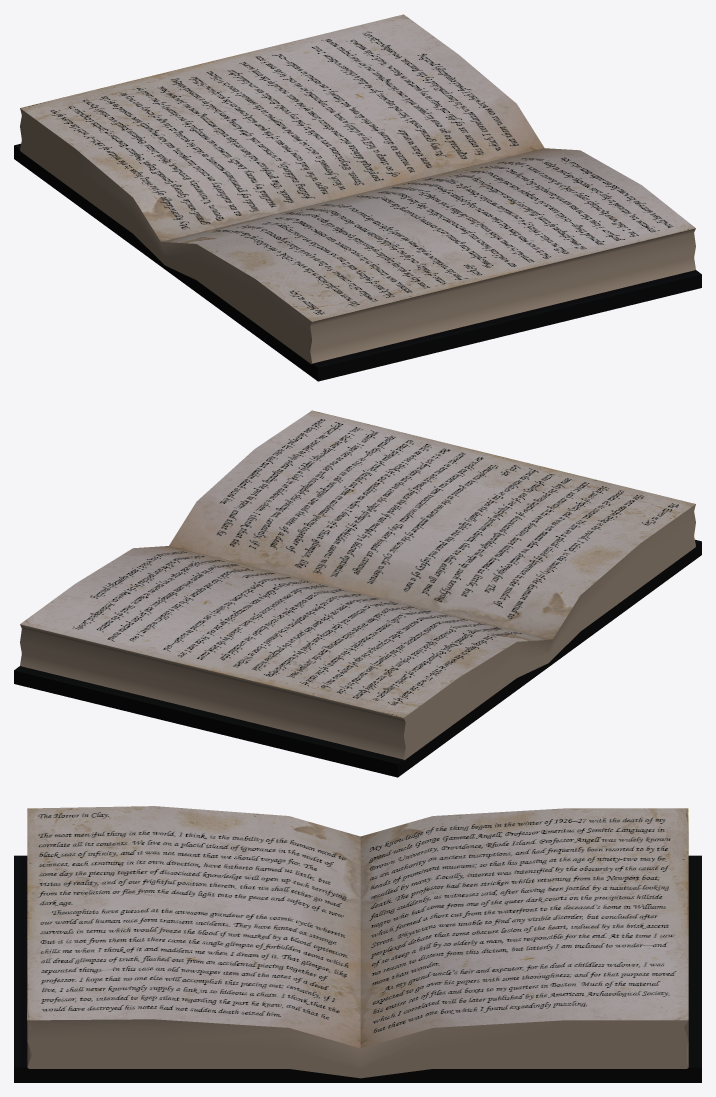
The model's file is 2book_opened.FBX.
The picture shows the model from 3 angles, top to bottom: view 1: azimuth 30°, elevation 25°; view 2: azimuth 150°, elevation 25°; view 3: azimuth 270°, elevation 25°; orthographic projection. The views are drawn at different scales.
Visible parts, largest first — view 1: book open; view 2: book open; view 3: book open.
Boxes of the visible parts, x1,y1,x2,y2 form: book open: (14,14,701,381); book open: (14,410,701,777); book open: (14,806,701,1082).
Size of the model in its own units: 6.99 by 0.9802 by 9.45.
1 material, 1 textured.
